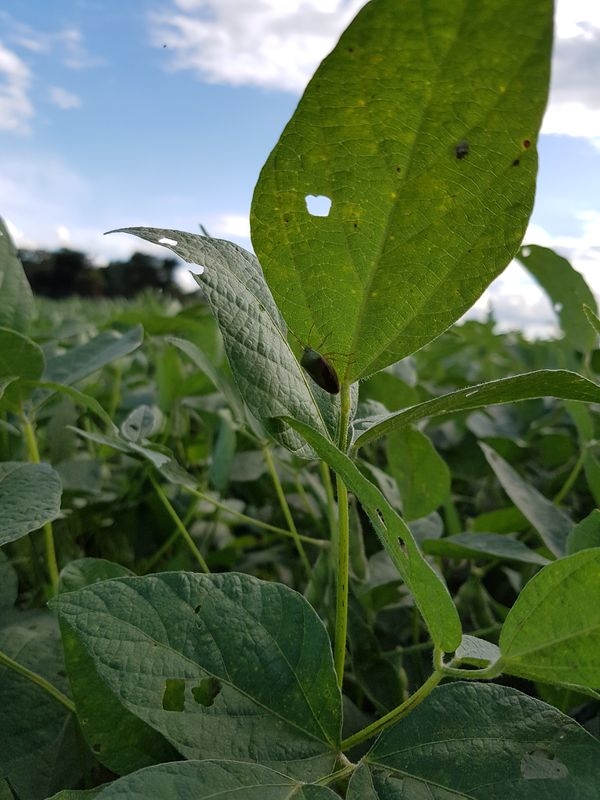Edessa_meditabunda: (277, 324, 362, 404)
